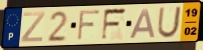2: (47, 10, 70, 44)
A: (128, 8, 157, 40)
F: (100, 7, 129, 42), (76, 8, 102, 42)
U: (156, 5, 183, 39)
Z: (20, 10, 47, 43)
